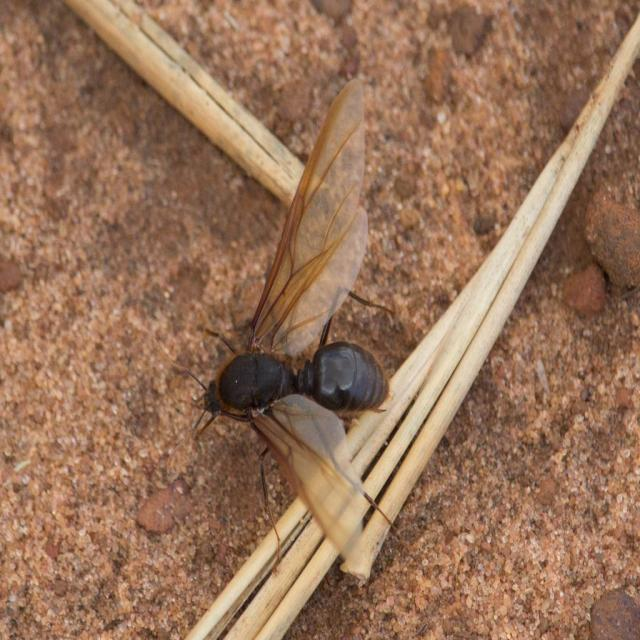Alive-Male-Alate: (154, 78, 398, 575)
